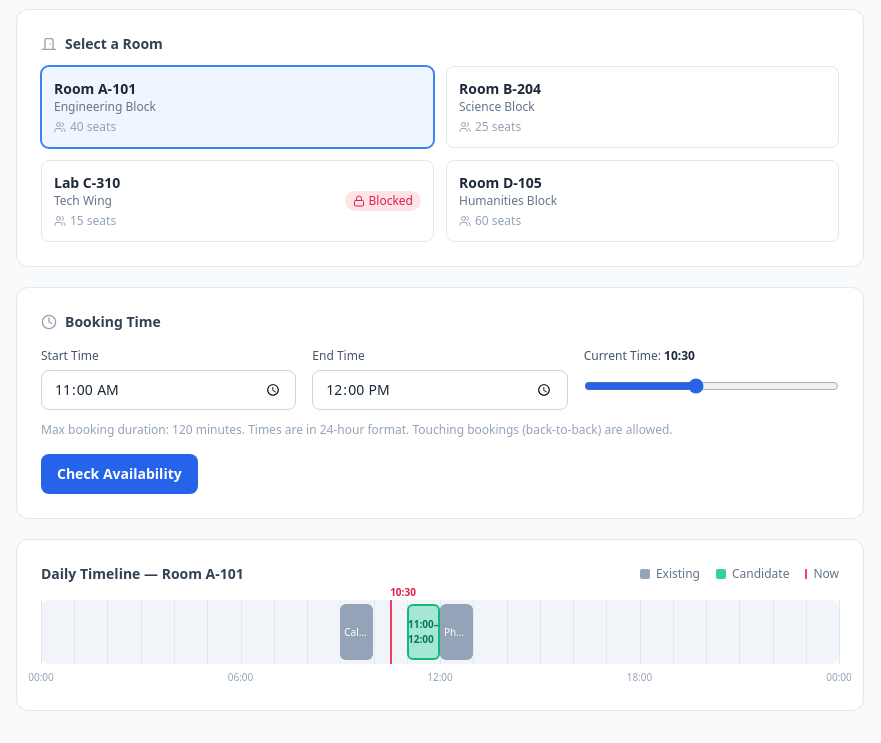
it: App explain availability UI › U08 — running a new check clears any previous explanation
(page scrolled)
Step 1. Click the button "Check Availability" → (119, 474), box [41,454,198,494]
(page scrolled)
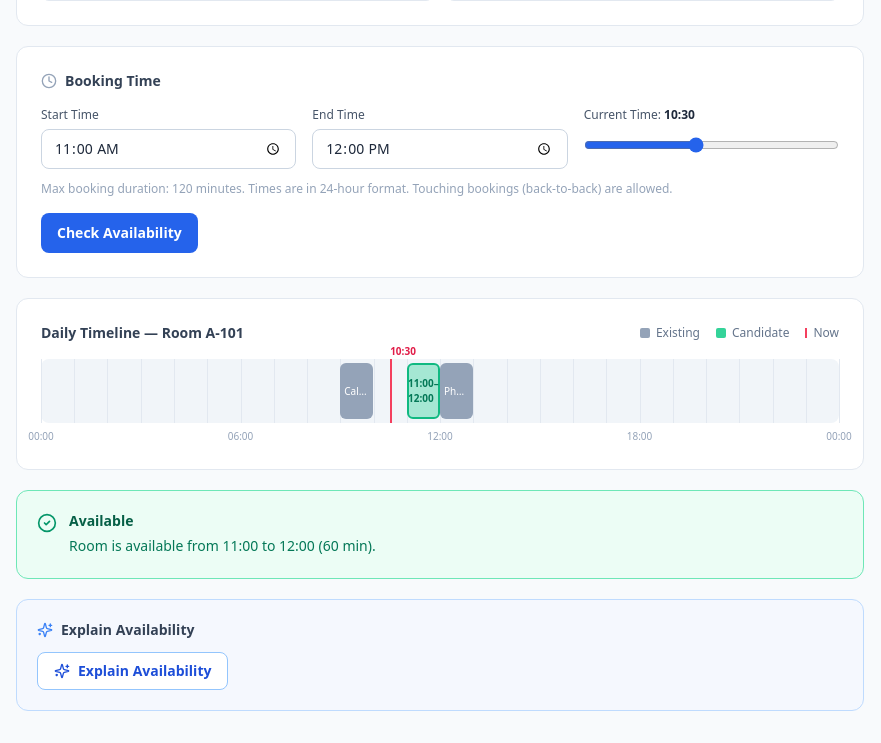
Step 2. Click the button "Explain Availability" → (133, 671), box [37,652,228,690]
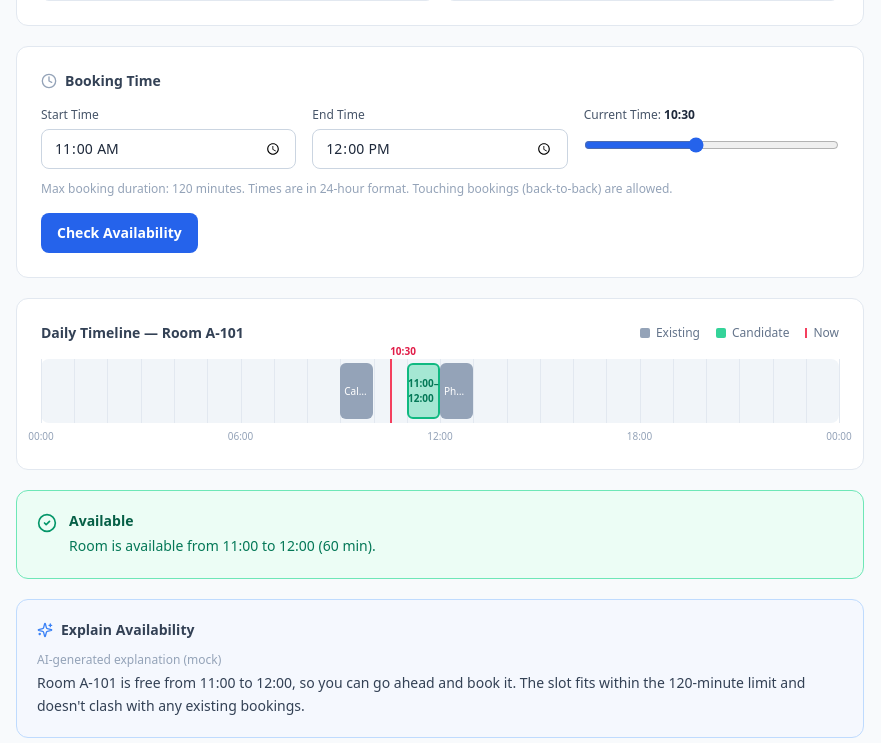
Now the text "AI-generated explanation (mock)" is shown, box [37,651,221,668]
Step 3. Click the button "Check Availability" → (119, 233), box [41,213,198,253]
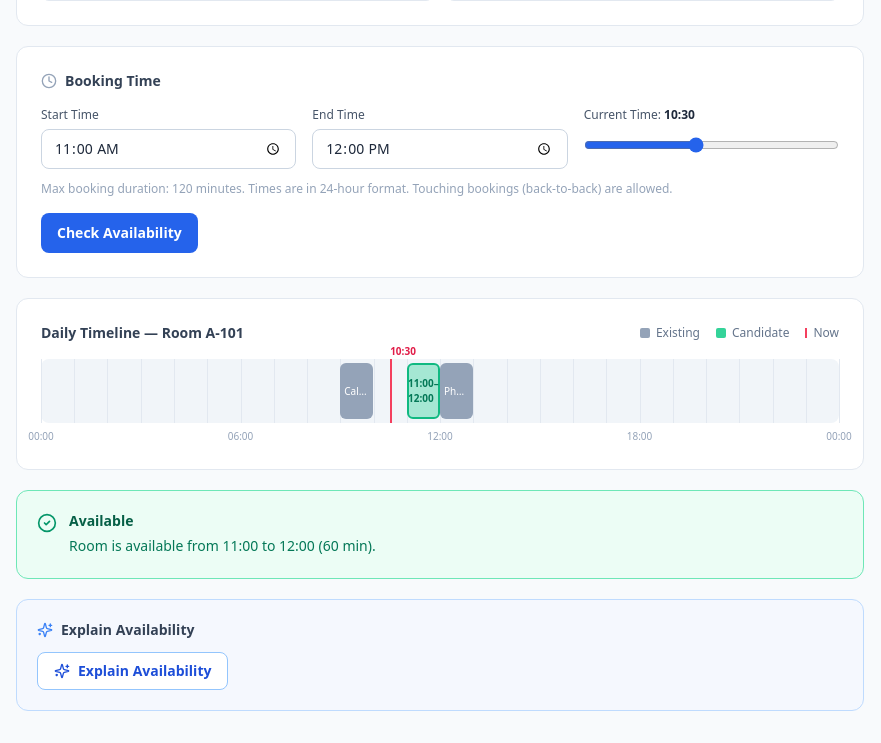
Now the text "AI-generated explanation (mock)" is gone
